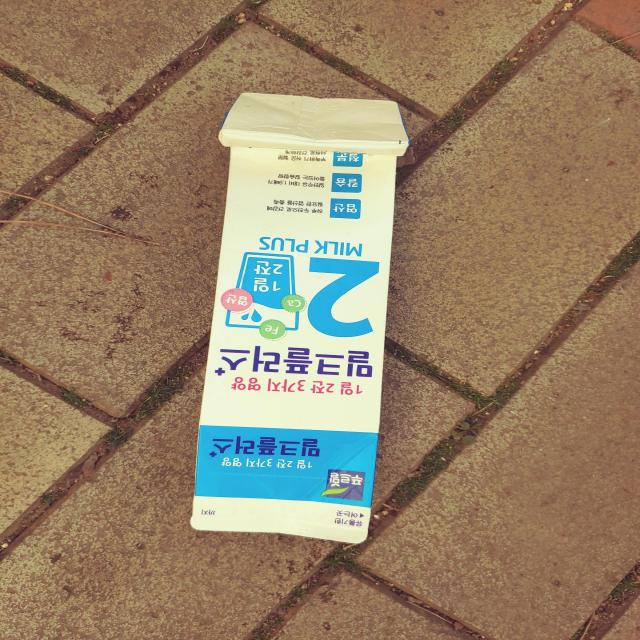paperpack: (190, 92, 408, 544)
